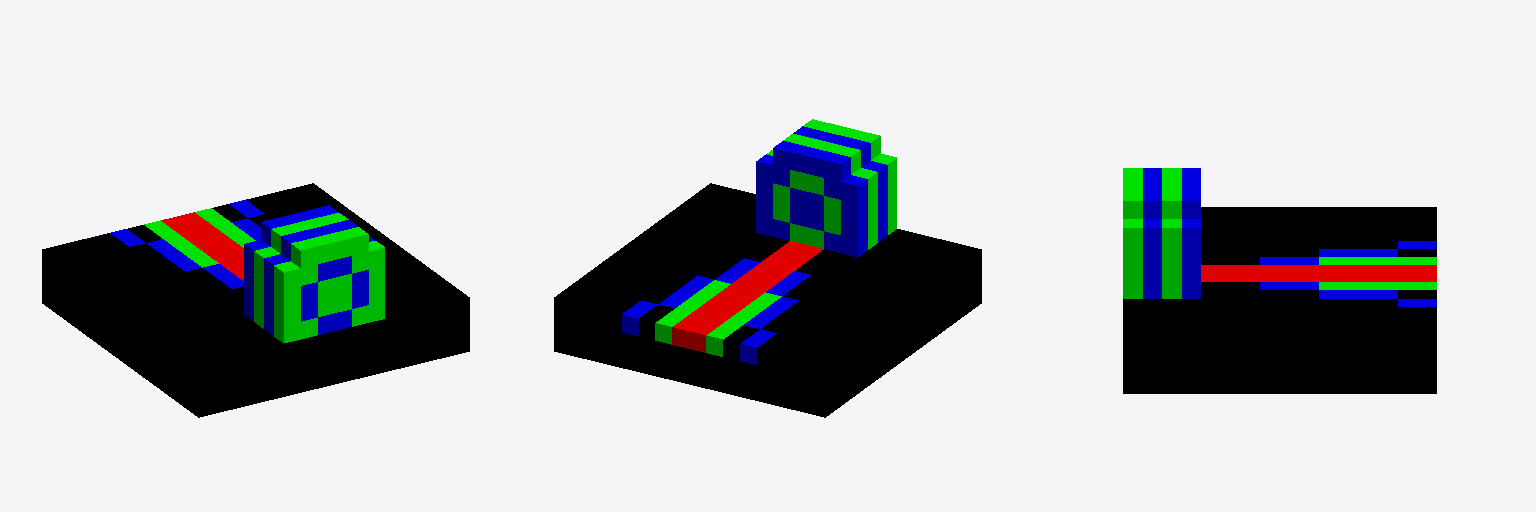
3 views of the same model, side by side, from view 1: azimuth 30°, elevation 25°; view 2: azimuth 150°, elevation 25°; view 3: azimuth 270°, elevation 25° (orthographic).
Visible parts, largest first — view 1: base; view 2: base; view 3: base.
Boxes of the visible parts, x1,y1,x2,y2 form: base: [42, 183, 469, 417]; base: [554, 119, 981, 417]; base: [1123, 168, 1436, 393].
Bounding box in the file's own units: 16 × 8 × 16.
Materials: 1 (1 with a texture image).